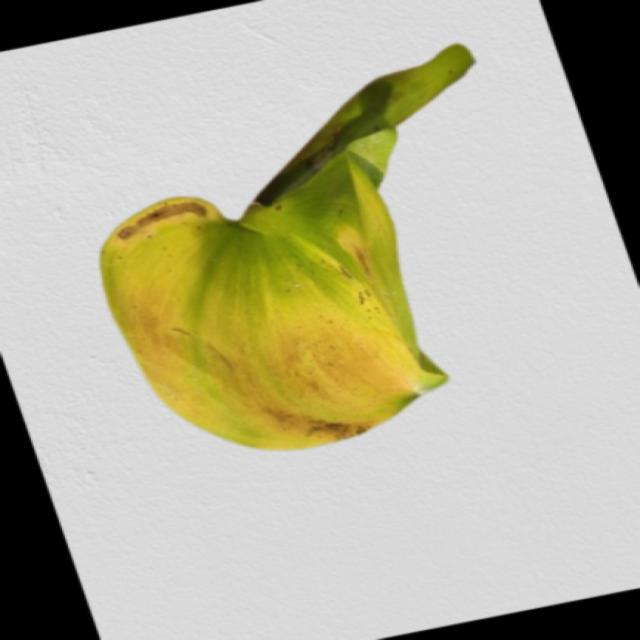daun berpenyakit kuning: (102, 46, 473, 450)
